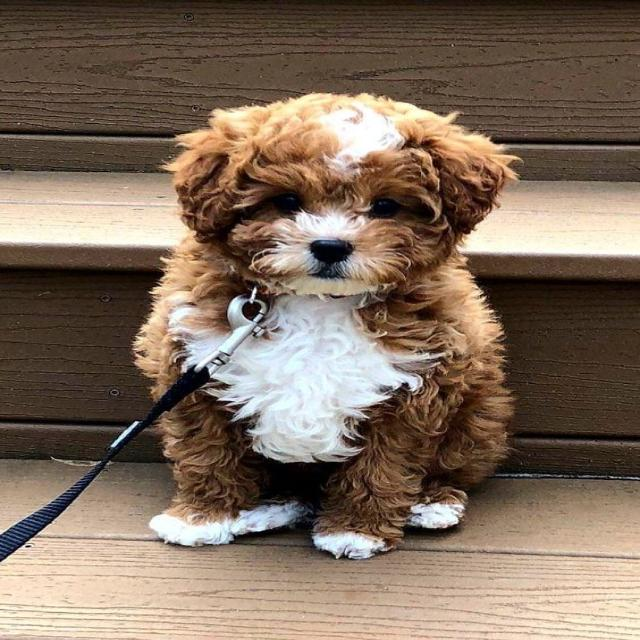dog: (129, 55, 556, 317)
